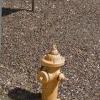Hydrant: (26, 37, 74, 100)
